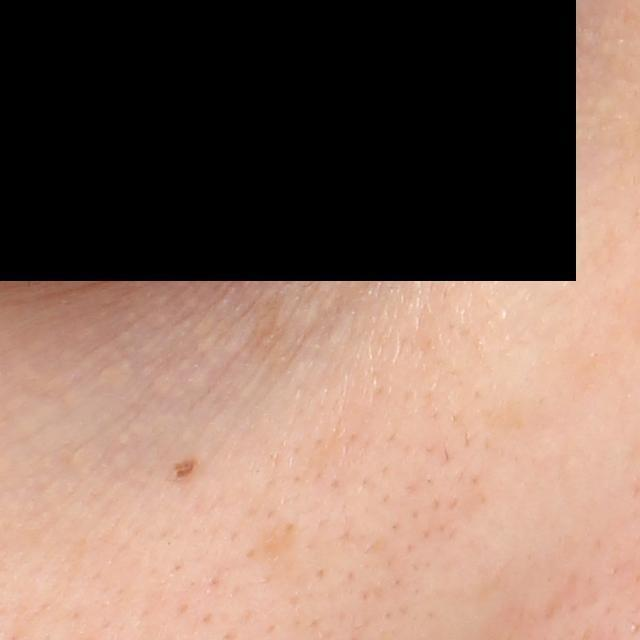nevus: (170, 457, 200, 479)
